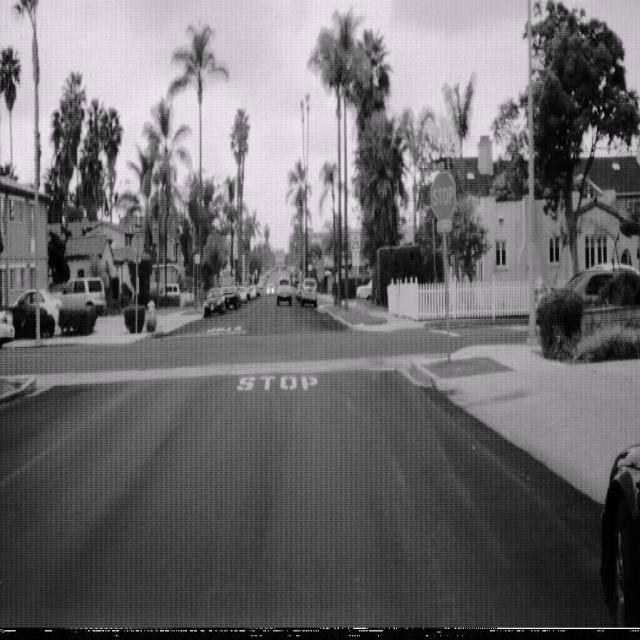stop: (430, 170, 457, 222)
